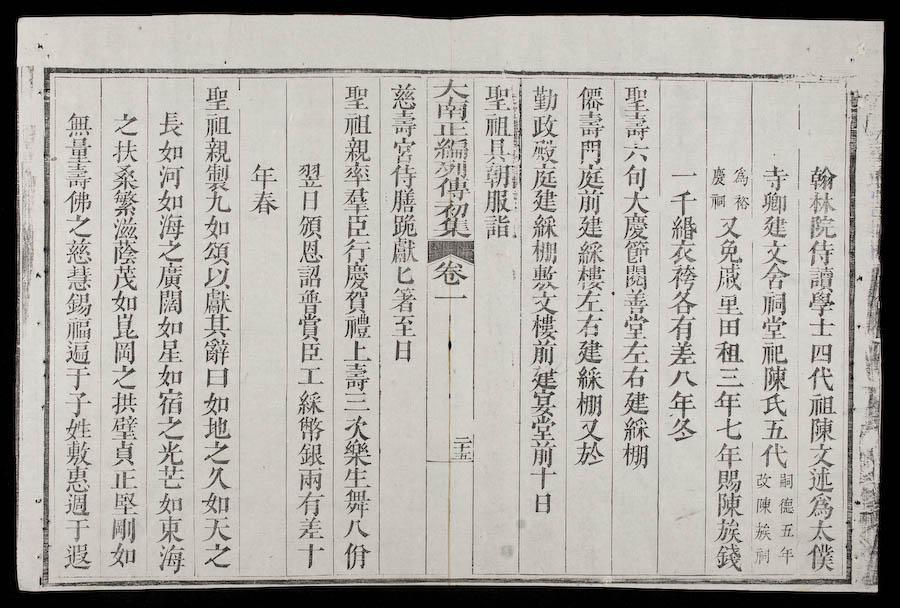c: (431, 260, 469, 287), (59, 541, 93, 571), (804, 542, 838, 571), (481, 83, 513, 113), (154, 544, 187, 573), (340, 82, 373, 111), (340, 540, 373, 569), (293, 540, 326, 569), (431, 137, 470, 161), (575, 83, 607, 112), (528, 84, 560, 113), (620, 84, 652, 113), (806, 163, 839, 191), (619, 113, 652, 141), (340, 488, 373, 516), (388, 81, 419, 110), (433, 217, 472, 240), (154, 515, 186, 543), (201, 84, 233, 112), (201, 542, 233, 570), (712, 543, 745, 570), (618, 441, 651, 468), (200, 515, 233, 542), (340, 439, 373, 466), (106, 542, 139, 569), (433, 178, 471, 201), (155, 108, 185, 137), (341, 262, 372, 290), (294, 160, 325, 188), (713, 264, 744, 292), (341, 362, 372, 390), (63, 264, 95, 291), (712, 389, 744, 416), (805, 365, 837, 392), (340, 186, 372, 213), (666, 389, 698, 416), (294, 388, 326, 415), (575, 112, 607, 139), (247, 161, 279, 188), (620, 415, 652, 442), (154, 262, 186, 289), (528, 265, 560, 292), (388, 238, 420, 265), (154, 388, 186, 415), (666, 340, 698, 367), (108, 515, 140, 542), (109, 110, 141, 137), (62, 109, 94, 136), (61, 440, 94, 466), (247, 189, 280, 215), (758, 442, 791, 468), (61, 465, 94, 491), (572, 441, 606, 466), (61, 188, 95, 213), (760, 163, 790, 191), (294, 313, 324, 341), (805, 492, 836, 519), (388, 110, 419, 137), (806, 416, 837, 443), (155, 213, 186, 240), (668, 187, 699, 214), (620, 313, 651, 340), (109, 264, 140, 291), (759, 365, 790, 392), (528, 314, 559, 341), (201, 338, 232, 365), (109, 190, 140, 217), (108, 440, 139, 467), (294, 415, 326, 441), (759, 264, 791, 290), (63, 237, 95, 263), (805, 239, 837, 265), (62, 390, 94, 416), (712, 517, 744, 543), (527, 390, 559, 416), (201, 288, 233, 314), (575, 165, 607, 191), (713, 339, 745, 365), (667, 264, 699, 290), (573, 365, 605, 391), (573, 391, 605, 417), (666, 416, 698, 442), (805, 290, 837, 316), (340, 112, 373, 137), (154, 465, 187, 490), (340, 238, 373, 263), (62, 137, 95, 162), (200, 313, 233, 338), (432, 78, 471, 99), (433, 99, 470, 121), (110, 313, 140, 340), (621, 213, 651, 240), (713, 441, 744, 467), (528, 340, 559, 366), (758, 315, 789, 341), (201, 137, 232, 163), (109, 137, 140, 163), (109, 164, 140, 190), (200, 390, 231, 416), (481, 215, 512, 241), (529, 214, 560, 240), (620, 389, 651, 415), (574, 339, 605, 365), (341, 414, 372, 440), (527, 416, 558, 442), (341, 137, 373, 162), (667, 290, 699, 315), (341, 314, 373, 339), (805, 392, 837, 417), (619, 340, 651, 365), (200, 491, 232, 516), (806, 214, 838, 239), (200, 465, 232, 490), (758, 392, 790, 417), (573, 313, 605, 338), (108, 390, 140, 415), (668, 215, 700, 240), (62, 163, 94, 188), (108, 415, 140, 440), (294, 491, 326, 516), (294, 516, 326, 541), (61, 416, 94, 440), (388, 287, 418, 313), (155, 338, 185, 364), (575, 139, 605, 165), (155, 289, 185, 315), (482, 189, 512, 215), (528, 441, 558, 467), (758, 291, 789, 316), (63, 291, 94, 316), (295, 441, 326, 466), (154, 491, 185, 516), (759, 239, 790, 264), (201, 214, 232, 239), (713, 492, 744, 517), (758, 341, 789, 366), (201, 440, 232, 465), (529, 189, 560, 214), (109, 490, 140, 515), (201, 239, 232, 264), (806, 266, 837, 291), (575, 265, 606, 290), (482, 164, 513, 189), (341, 214, 372, 239), (154, 363, 185, 388), (529, 165, 560, 190), (529, 240, 560, 265), (667, 315, 698, 340), (529, 114, 560, 139), (575, 240, 606, 265), (62, 364, 93, 389), (341, 162, 373, 186), (154, 416, 186, 440), (61, 517, 93, 541), (806, 190, 838, 214), (432, 200, 472, 219), (621, 164, 650, 190), (295, 213, 324, 239), (155, 164, 185, 189), (108, 364, 138, 389), (714, 239, 744, 264), (294, 264, 324, 289), (388, 313, 418, 338), (294, 289, 324, 314), (155, 138, 185, 163), (575, 190, 605, 215), (529, 366, 559, 391), (575, 215, 605, 240), (805, 467, 835, 492), (573, 417, 604, 441), (388, 164, 419, 188), (155, 441, 186, 465), (714, 365, 745, 389), (621, 190, 652, 214), (714, 416, 745, 440), (154, 189, 185, 213), (805, 443, 836, 467), (619, 365, 650, 389), (201, 113, 232, 137), (63, 317, 94, 341), (62, 341, 93, 365), (759, 417, 790, 441), (61, 492, 92, 516), (109, 216, 140, 240), (295, 466, 326, 490), (109, 466, 140, 490), (63, 213, 94, 237), (109, 240, 140, 264), (431, 290, 470, 309), (573, 290, 605, 313), (528, 292, 560, 315), (482, 138, 511, 163), (389, 138, 418, 163), (621, 289, 650, 314), (621, 264, 650, 289), (389, 189, 418, 214), (714, 468, 744, 492), (621, 240, 651, 264), (202, 264, 232, 288), (341, 290, 371, 314), (530, 140, 560, 164), (389, 214, 419, 238), (482, 114, 512, 138), (201, 163, 231, 187), (431, 160, 471, 178), (431, 120, 471, 138), (806, 340, 836, 364), (342, 340, 373, 363), (201, 416, 232, 439), (154, 315, 185, 338), (667, 241, 698, 264), (805, 519, 836, 542), (155, 239, 186, 262), (806, 317, 838, 339), (340, 466, 372, 488), (340, 391, 372, 413), (296, 239, 324, 264), (714, 215, 743, 239), (296, 363, 325, 387), (666, 367, 699, 388), (714, 293, 744, 316), (760, 215, 790, 238), (528, 466, 558, 489), (109, 290, 139, 313), (340, 517, 371, 539), (390, 338, 417, 363), (110, 340, 138, 364), (760, 191, 789, 214), (530, 490, 556, 515), (296, 188, 323, 212), (296, 341, 325, 363), (202, 366, 231, 388), (202, 192, 232, 213), (621, 142, 651, 163), (715, 316, 743, 338), (668, 165, 699, 184), (390, 265, 417, 286), (752, 519, 773, 542), (751, 545, 773, 566), (775, 544, 796, 566), (753, 494, 774, 516), (731, 164, 750, 186), (710, 164, 728, 187), (708, 191, 728, 211), (731, 192, 751, 212), (777, 495, 796, 516), (754, 470, 773, 490), (776, 471, 795, 490), (776, 521, 796, 539), (452, 430, 474, 444), (452, 443, 470, 452), (452, 452, 472, 460)
